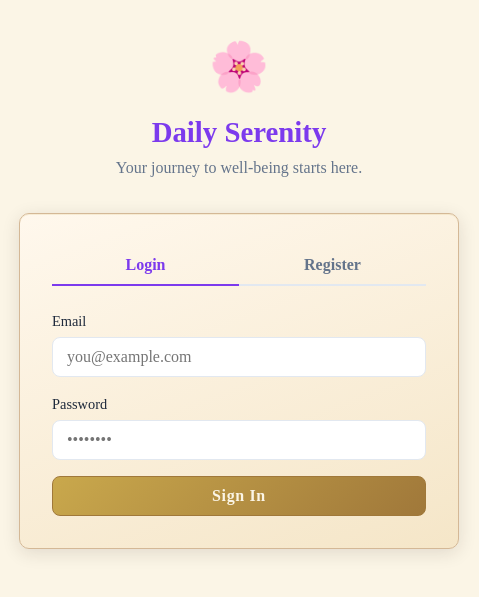
Test: AuthPage › shows validation error for invalid email
Type "notanemail" into the field with placeholder "you@example.com" at {"x": 239, "y": 357}, box [52,337,426,377]
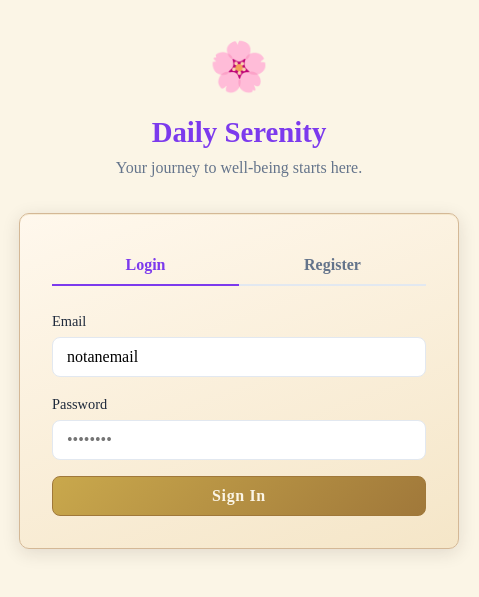
Click the button "Sign In" at {"x": 239, "y": 496}, box [52,476,426,516]
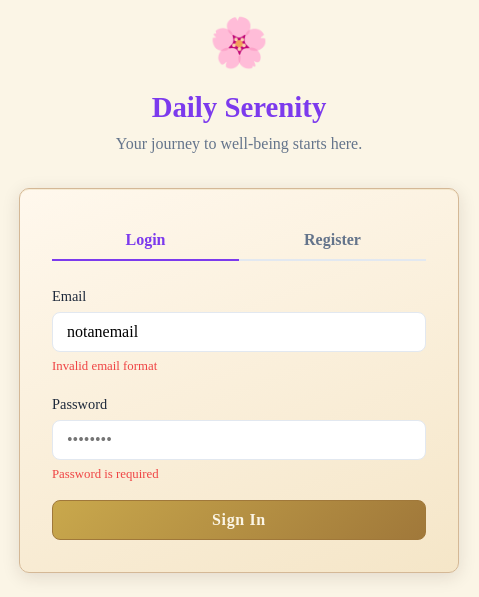
Result: the text "Invalid email format" is shown at [52,359,157,373]
